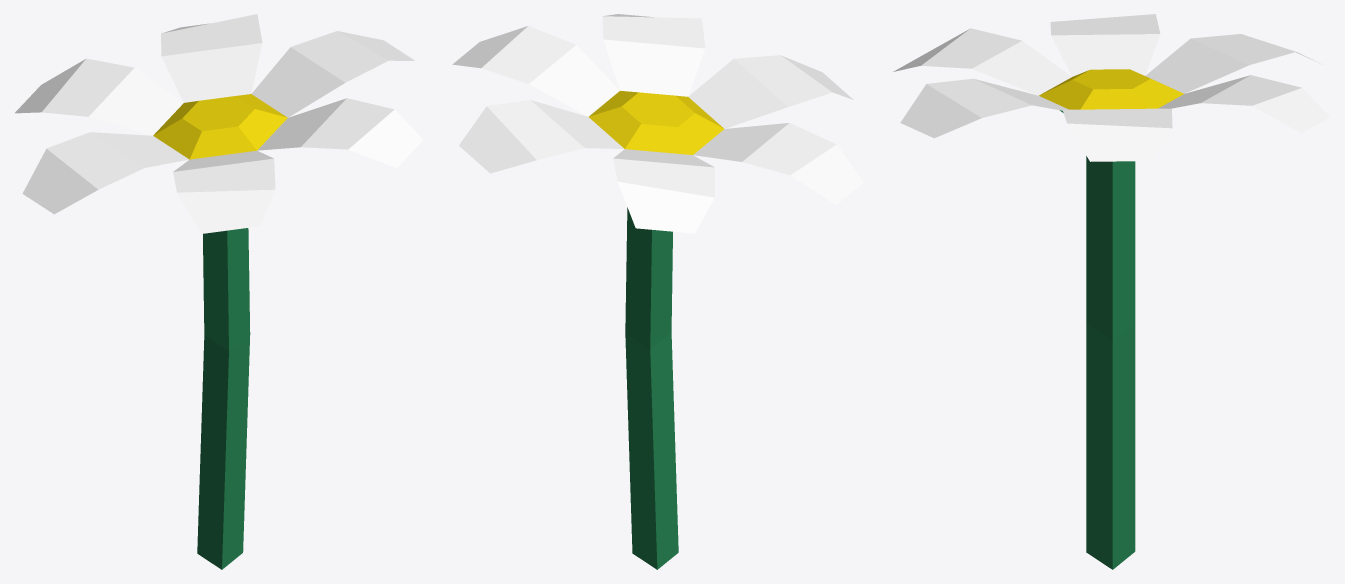
Rendered from flowre2.gltf.
The picture shows the model from 3 angles, left to right: view 1: azimuth 30°, elevation 25°; view 2: azimuth 150°, elevation 25°; view 3: azimuth 270°, elevation 25°; orthographic projection. The views are drawn at different scales.
Visible parts, largest first — view 1: Circle.001; view 2: Circle.001; view 3: Circle.001.
Part boxes in pixels (x1,y1,x2,y2): Circle.001: (15, 14, 423, 569); Circle.001: (452, 14, 863, 569); Circle.001: (893, 14, 1330, 569).
Bounding box in the file's own units: 23.04 × 28.14 × 21.85.
Materials: 1 (1 with a texture image).
